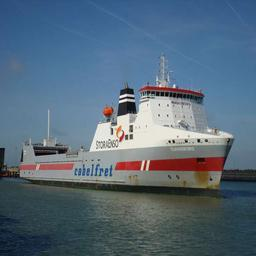Ship: (18, 84, 241, 196)
